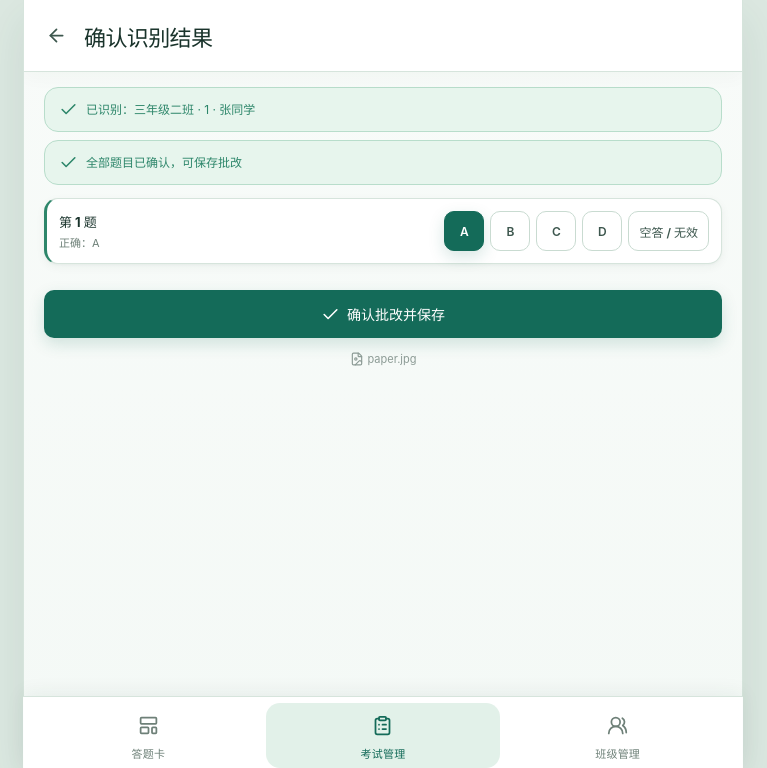
Test: Answer Sheet Manager H5 › opens results and clears the review after saving
Click the button "确认批改并保存".
click(383, 314)  # box left=44, top=290, right=722, bottom=338
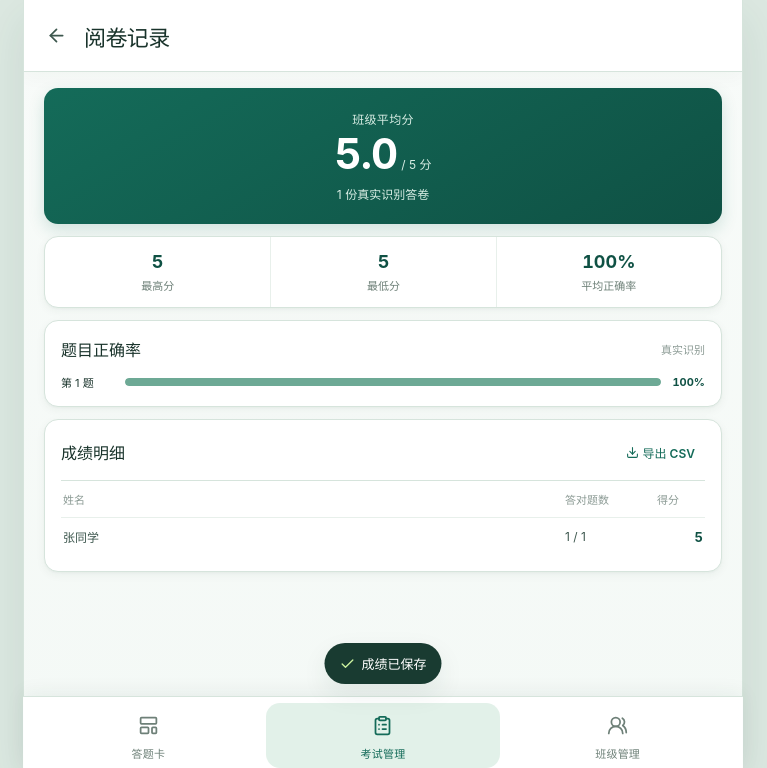
Check: the text "班级平均分" is shown, box left=352, top=112, right=414, bottom=127
